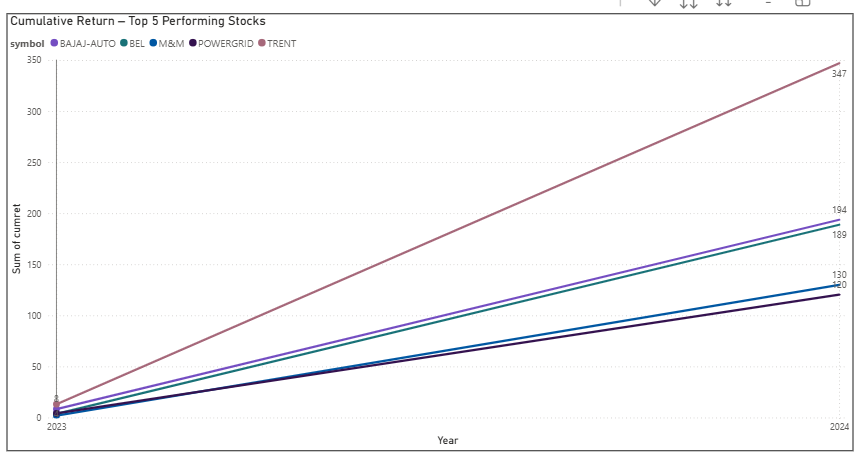

The page's visual inventory and layout, read from the dashboard file:
{"tool":"powerbi","page":{"name":"Page 1","canvas":[1280,720],"ordinal":1},"visuals":[{"type":"lineChart","title":"Cumulative Return – Top 5 Performing Stocks","fields":{"Category":["cumulative_returns.trade_date.Variation.Date Hierarchy.Year","cumulative_returns.trade_date.Variation.Date Hierarchy.Quarter","cumulative_returns.trade_date.Variation.Date Hierarchy.Month","cumulative_returns.trade_date.Variation.Date Hierarchy.Day"],"Y":["Sum(cumulative_returns.cumret)"],"Series":["cumulative_returns.symbol"]},"box":[57.1,68.6,1128.6,582.9],"z":0}]}

Visuals, with their boxes on the page's 1280x720 design canvas (x1, y1, x2, y2). These are canvas units, not pixel positions in the 862x459 screenshot, which may show the page scaled, cropped or inside an application window:
"Cumulative Return – Top 5 Performing Stocks" lineChart: box=[57, 69, 1186, 652]
